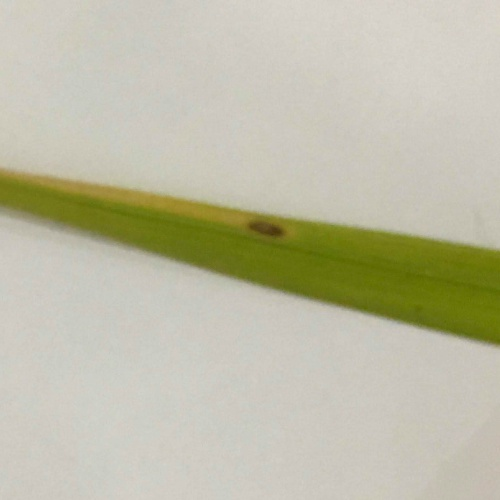Busuk Leher: (236, 203, 293, 250)
